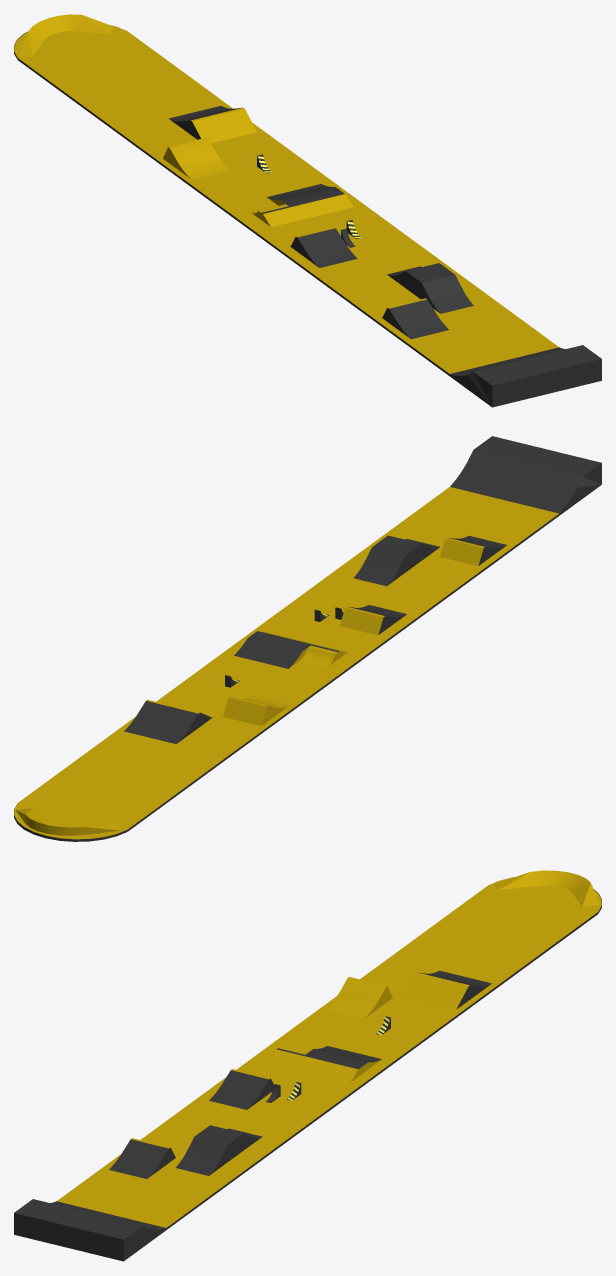
File: Prototype Track.fbx
The picture shows the model from 3 angles, top to bottom: view 1: azimuth 30°, elevation 25°; view 2: azimuth 150°, elevation 25°; view 3: azimuth 330°, elevation 25°; orthographic projection.
Parts seen in each view (by area): view 1: FreestylePrototypeTrack; view 2: FreestylePrototypeTrack; view 3: FreestylePrototypeTrack.
Part boxes in pixels (x1,y1,x2,y2): FreestylePrototypeTrack: [14, 14, 601, 407]; FreestylePrototypeTrack: [14, 436, 601, 841]; FreestylePrototypeTrack: [14, 870, 601, 1261].
Bounding box in the file's own units: 3048 × 581 × 24130.
